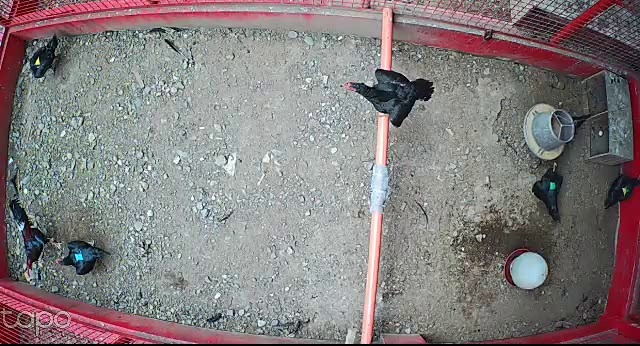Chicken: (340, 63, 442, 133), (52, 239, 114, 277), (532, 160, 566, 228), (29, 33, 62, 83), (605, 167, 640, 210)
Drinker: (502, 247, 551, 292)
Feeder: (523, 102, 576, 161)
Rooster: (4, 197, 65, 278)
Saddle_Color_Blue: (74, 248, 83, 263)
Saddle_Color_Yellow: (33, 56, 42, 67)
Saddle_Color_YellowGreen: (622, 185, 631, 196)
